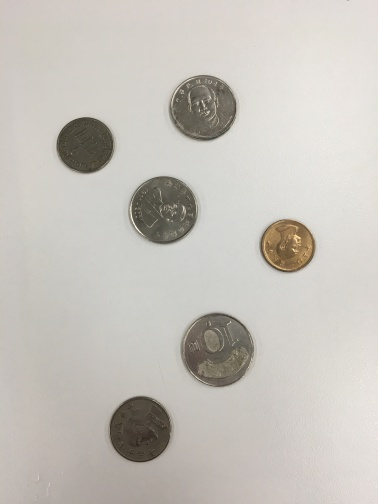1 dollar: (255, 210, 322, 285)
10 dollar: (174, 308, 262, 396), (162, 70, 246, 146), (121, 174, 205, 249)
5 dollar: (98, 386, 181, 477), (47, 109, 123, 184)
